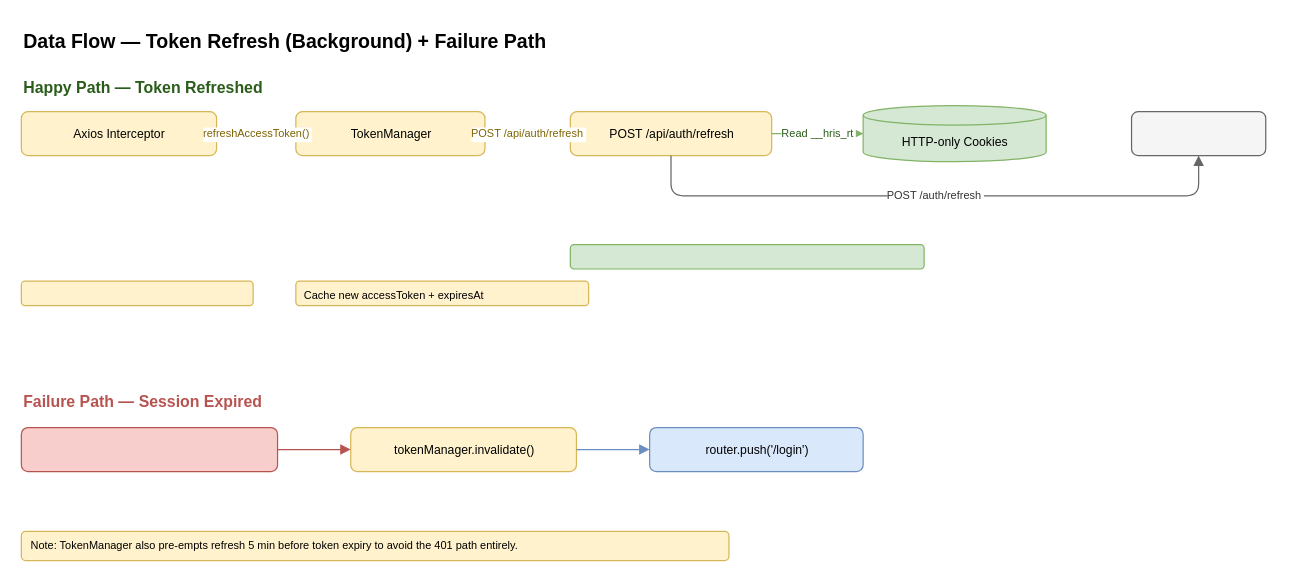
Image size: 1298x582. Some labels were removed from this diagram. The centre of each missing label's shape, as x and y in pixels:
"Backend POST /auth/refresh" belongs at pixel 1198 133.
"New tokens returned + cookies rotated" belongs at pixel 746 256.
"Refresh also returns 401" belongs at pixel 149 449.
"Retry original request" belongs at pixel 136 293.
